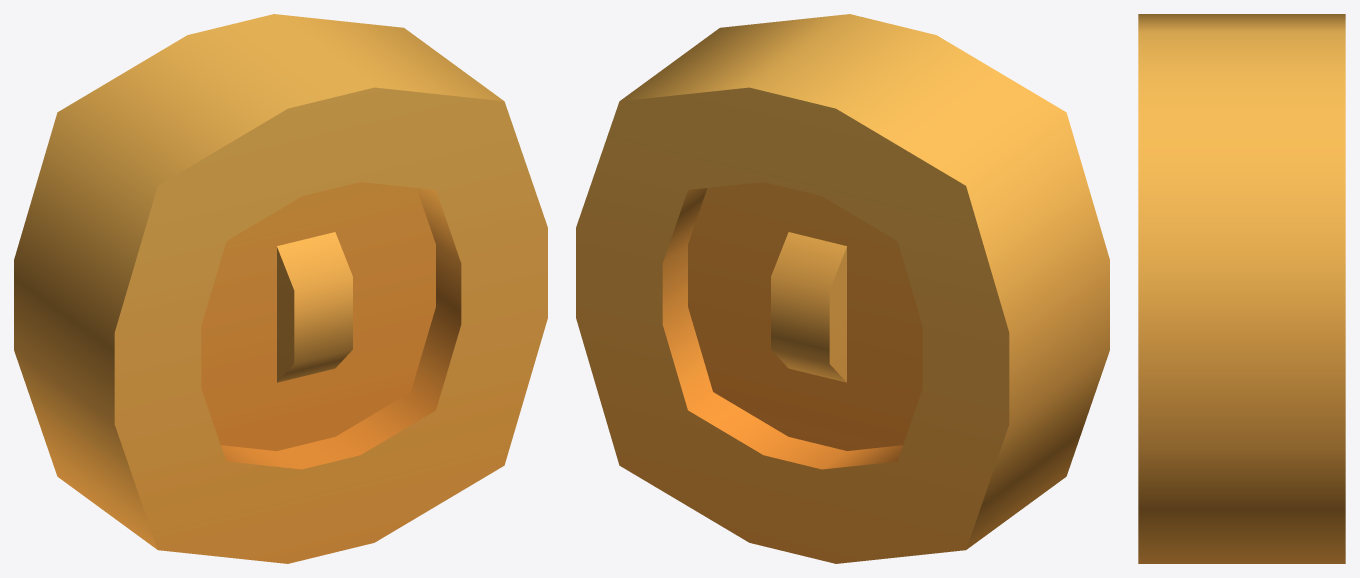
File: dungeon_coin.glb
3 renders of one model, left to right at view 1: azimuth 30°, elevation 25°; view 2: azimuth 150°, elevation 25°; view 3: azimuth 270°, elevation 25°, orthographic. The views are drawn at different scales.
Parts seen in each view (by area): view 1: coin; view 2: coin; view 3: coin.
Boxes of the visible parts, x1,y1,x2,y2 form: coin: [14, 14, 547, 563]; coin: [576, 14, 1109, 563]; coin: [1138, 14, 1345, 563].
Size of the model in its own units: 0.415 by 0.4167 by 0.1666.
1 material, 1 textured.
